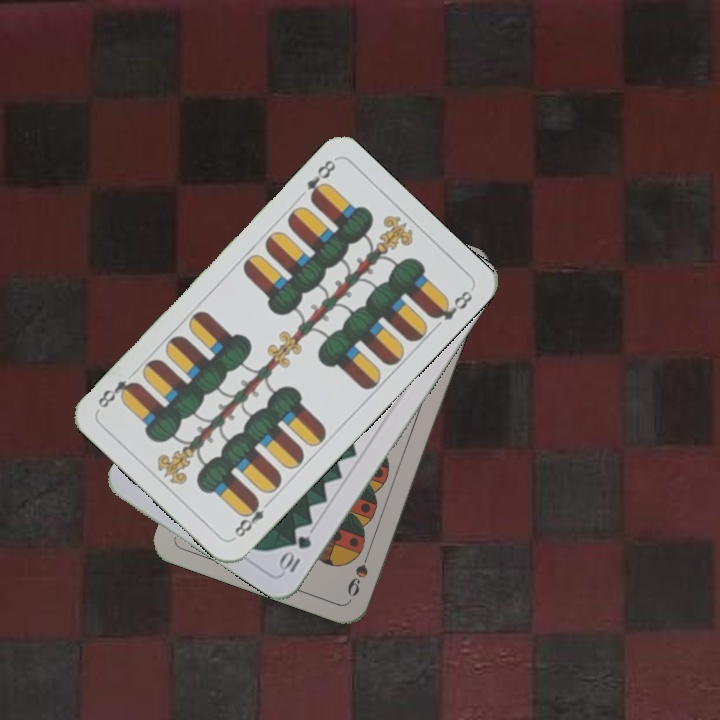E8: (230, 495, 275, 540), (302, 155, 339, 204)
G10: (276, 531, 315, 575)
S9: (343, 543, 374, 600)
